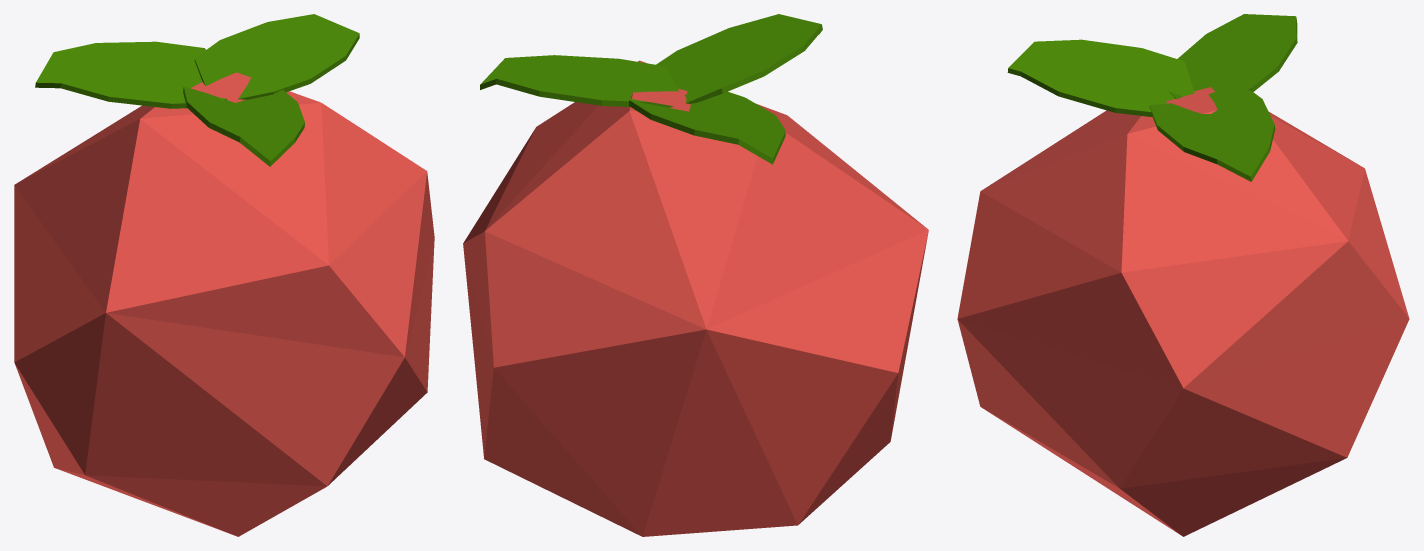
Rendered from Fruit_Red.fbx.
3 views of the same model, side by side, from view 1: azimuth 30°, elevation 25°; view 2: azimuth 150°, elevation 25°; view 3: azimuth 270°, elevation 25° (orthographic). The views are drawn at different scales.
Visible parts, largest first — view 1: Fruit_Red; view 2: Fruit_Red; view 3: Fruit_Red.
Boxes of the visible parts, <box> form: Fruit_Red: <box>14,14,434,536</box>; Fruit_Red: <box>463,14,928,536</box>; Fruit_Red: <box>957,14,1409,536</box>.
Size of the model in its own units: 41.15 by 41.43 by 39.14.
